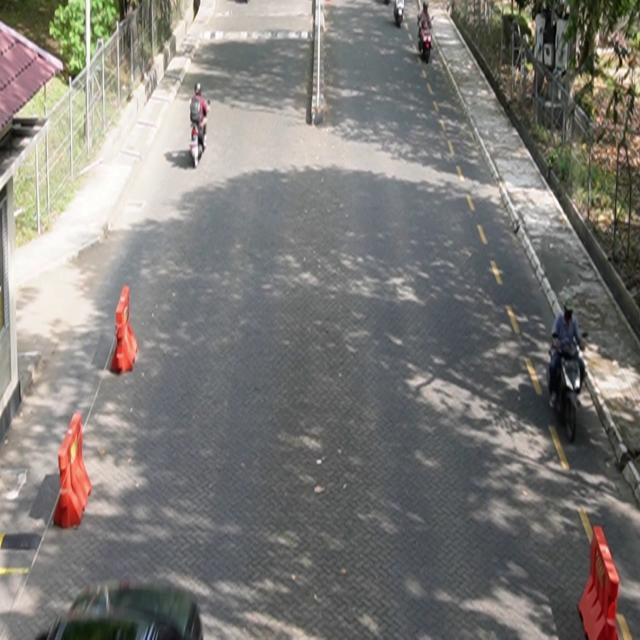car: (36, 576, 205, 640)
